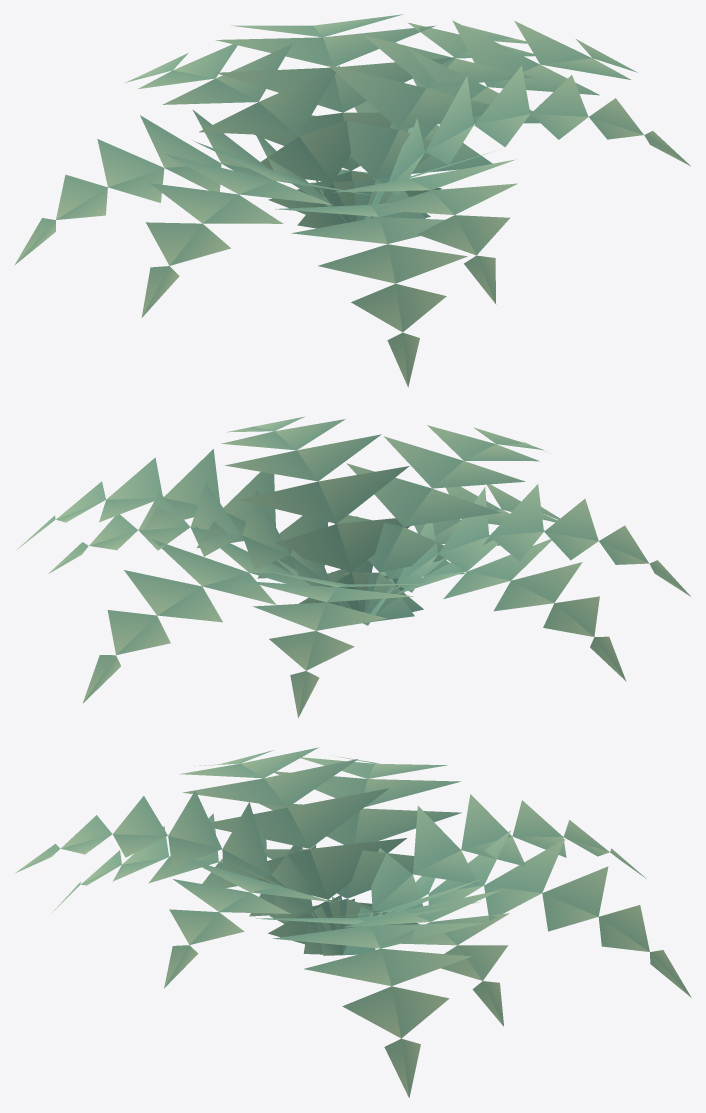
File: fern_b.glb
The picture shows the model from 3 angles, top to bottom: view 1: azimuth 30°, elevation 25°; view 2: azimuth 150°, elevation 25°; view 3: azimuth 270°, elevation 25°; orthographic projection. The views are drawn at different scales.
Parts seen in each view (by area): view 1: soft; view 2: soft; view 3: soft.
Boxes of the visible parts, x1=… form: soft: x1=14, y1=14, x2=690, y2=387; soft: x1=16, y1=416, x2=690, y2=717; soft: x1=15, y1=747, x2=691, y2=1097.
Bounding box in the file's own units: 1.36 × 0.2811 × 1.27.
